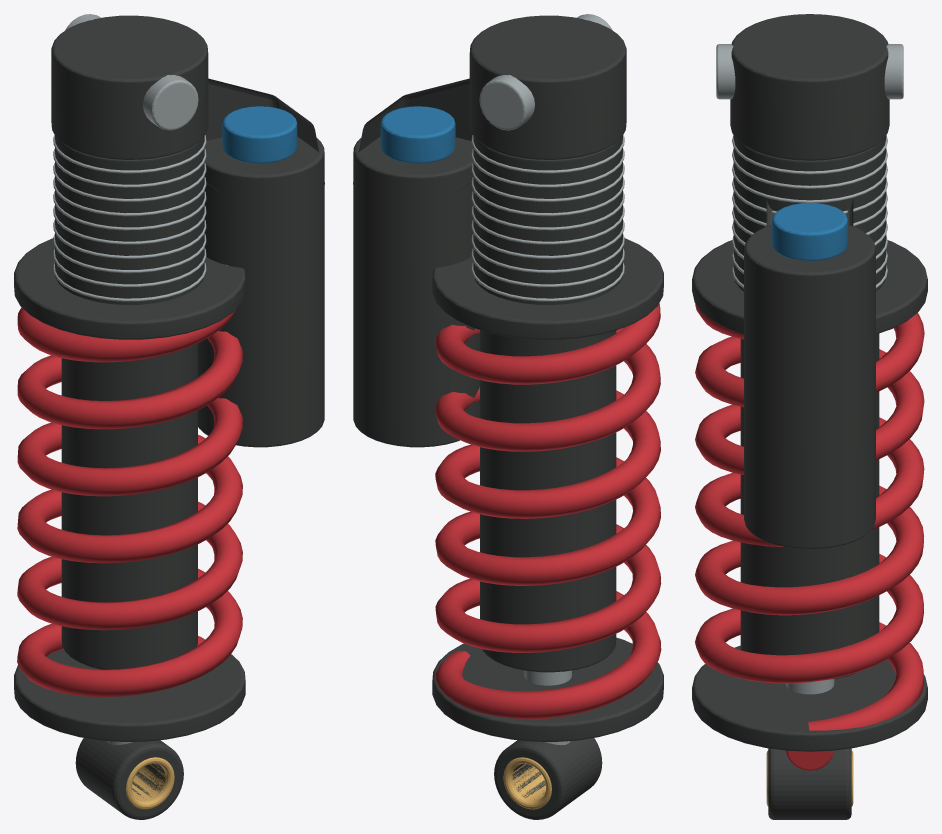
The model's file is rockshox-vivid-coil-ultimate-d1--34d805df.glb.
3 views of the same model, side by side, from view 1: azimuth 30°, elevation 25°; view 2: azimuth 150°, elevation 25°; view 3: azimuth 270°, elevation 25° (orthographic).
Visible parts, largest first — view 1: rockshox-vivid-coil-ultimate-d1--34d805df__link, rockshox-vivid-coil-ultimate-d1--34d805df__rebound, rockshox-vivid-coil-ultimate-d1--34d805df__bolts, rockshox-vivid-coil-ultimate-d1--34d805df__adjuster, rockshox-vivid-coil-ultimate-d1--34d805df__stanchions; view 2: rockshox-vivid-coil-ultimate-d1--34d805df__link, rockshox-vivid-coil-ultimate-d1--34d805df__rebound, rockshox-vivid-coil-ultimate-d1--34d805df__bolts, rockshox-vivid-coil-ultimate-d1--34d805df__adjuster, rockshox-vivid-coil-ultimate-d1--34d805df__stanchions; view 3: rockshox-vivid-coil-ultimate-d1--34d805df__link, rockshox-vivid-coil-ultimate-d1--34d805df__rebound, rockshox-vivid-coil-ultimate-d1--34d805df__bolts, rockshox-vivid-coil-ultimate-d1--34d805df__adjuster.
Part boxes in pixels (x1,y1,x2,y2): rockshox-vivid-coil-ultimate-d1--34d805df__link: (14,15,324,819); rockshox-vivid-coil-ultimate-d1--34d805df__rebound: (17,265,242,697); rockshox-vivid-coil-ultimate-d1--34d805df__bolts: (53,14,206,745); rockshox-vivid-coil-ultimate-d1--34d805df__adjuster: (222,106,297,163); rockshox-vivid-coil-ultimate-d1--34d805df__stanchions: (126,757,174,809); rockshox-vivid-coil-ultimate-d1--34d805df__link: (353,15,663,819); rockshox-vivid-coil-ultimate-d1--34d805df__rebound: (435,303,661,719); rockshox-vivid-coil-ultimate-d1--34d805df__bolts: (471,14,624,745); rockshox-vivid-coil-ultimate-d1--34d805df__adjuster: (380,106,455,163); rockshox-vivid-coil-ultimate-d1--34d805df__stanchions: (503,757,551,809); rockshox-vivid-coil-ultimate-d1--34d805df__link: (692,14,927,819); rockshox-vivid-coil-ultimate-d1--34d805df__rebound: (695,304,924,770); rockshox-vivid-coil-ultimate-d1--34d805df__bolts: (716,44,903,694); rockshox-vivid-coil-ultimate-d1--34d805df__adjuster: (772,203,847,260).
Bounding box in the file's own units: 0.097 × 0.245 × 0.068.
